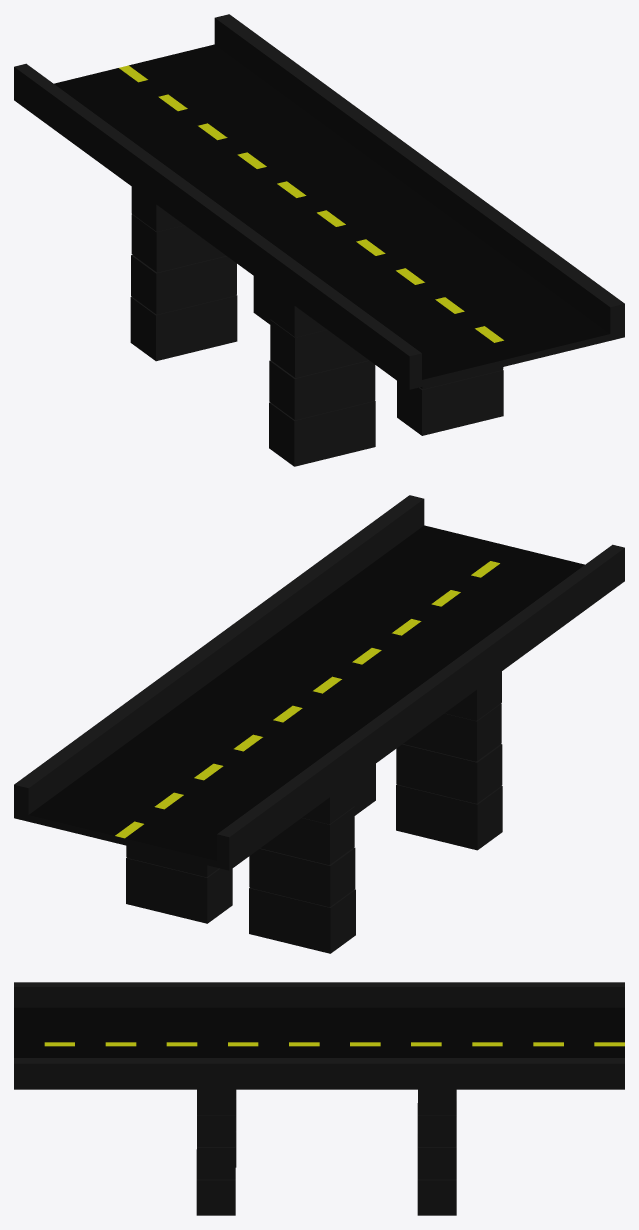
The model's file is concrete bridge.obj.
3 views of the same model, one above another, from view 1: azimuth 30°, elevation 25°; view 2: azimuth 150°, elevation 25°; view 3: azimuth 270°, elevation 25° (orthographic). The views are drawn at different scales.
Visible parts, largest first — view 1: road, pilar4, pilar3, pilar2, pilar1; view 2: road, pilar4, pilar3, pilar1, pilar2; view 3: road, pilar1, pilar2.
Part boxes in pixels (x1=…): road: x1=14, y1=14, x2=624, y2=389; pilar4: x1=269, y1=288, x2=375, y2=466; pilar3: x1=130, y1=187, x2=237, y2=361; pilar2: x1=397, y1=367, x2=503, y2=435; pilar1: x1=253, y1=276, x2=270, y2=324; road: x1=14, y1=495, x2=624, y2=870; pilar4: x1=396, y1=671, x2=502, y2=850; pilar3: x1=249, y1=779, x2=355, y2=953; pilar1: x1=126, y1=845, x2=232, y2=923; pilar2: x1=354, y1=764, x2=375, y2=815; road: x1=14, y1=982, x2=624, y2=1089; pilar1: x1=417, y1=1089, x2=456, y2=1215; pilar2: x1=196, y1=1089, x2=235, y2=1215.
Size of the model in its own units: 9.84 by 8.66 by 31.3.
